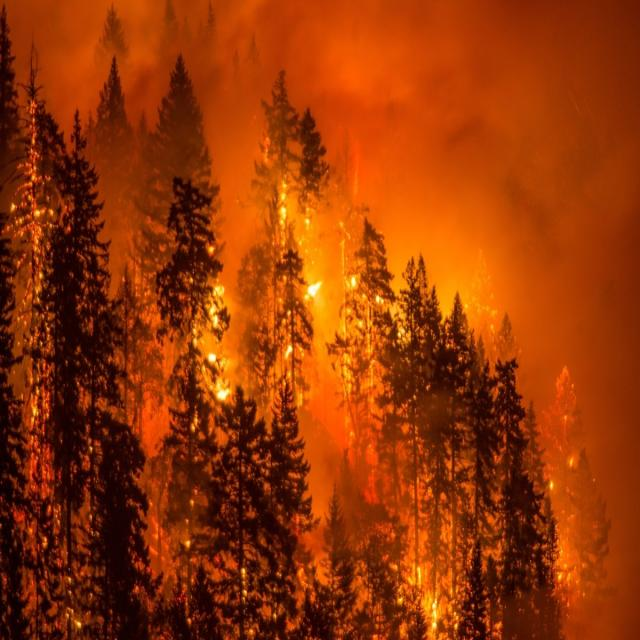Fire: (78, 0, 607, 640)
Smoke: (307, 0, 640, 640)
